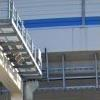stairs: (0, 25, 40, 88)
